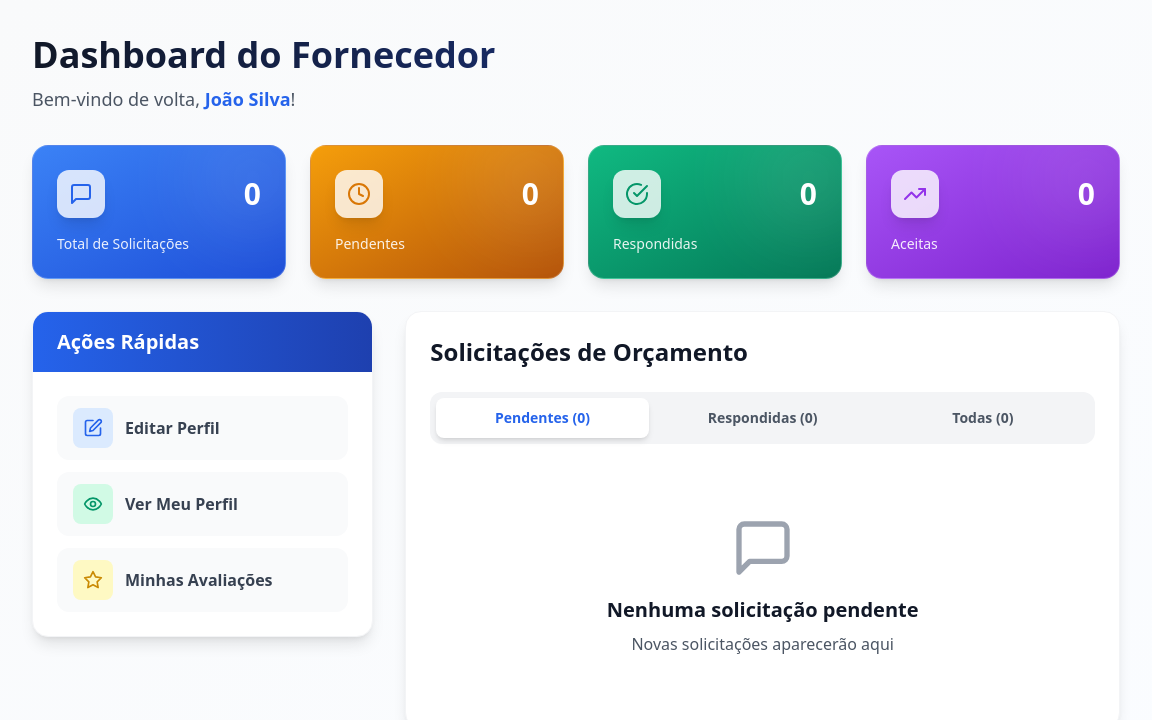
SupplierDashboard › Empty States › should show correct empty state message for each tab
This screenshot has width=1152, height=720.
Expected: the heading "Nenhuma solicitação pendente" is shown, [607, 596, 919, 623]
Click the button "Respondidas (0)" at (763, 418), box [656, 398, 869, 438]
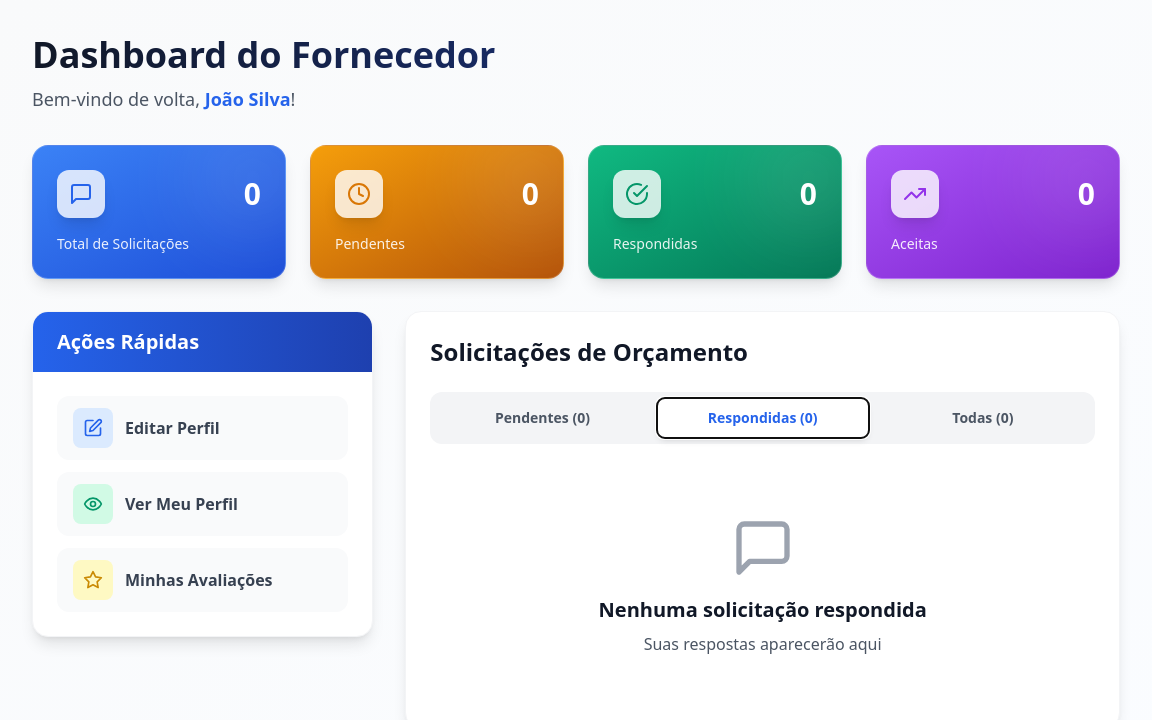
Expected: the heading "Nenhuma solicitação respondida" is shown, [599, 596, 927, 623]
Expected: the text "Suas respostas aparecerão aqui" is shown, [644, 633, 882, 655]
Click the button "Todas (0)" at (983, 418), box [877, 398, 1089, 438]
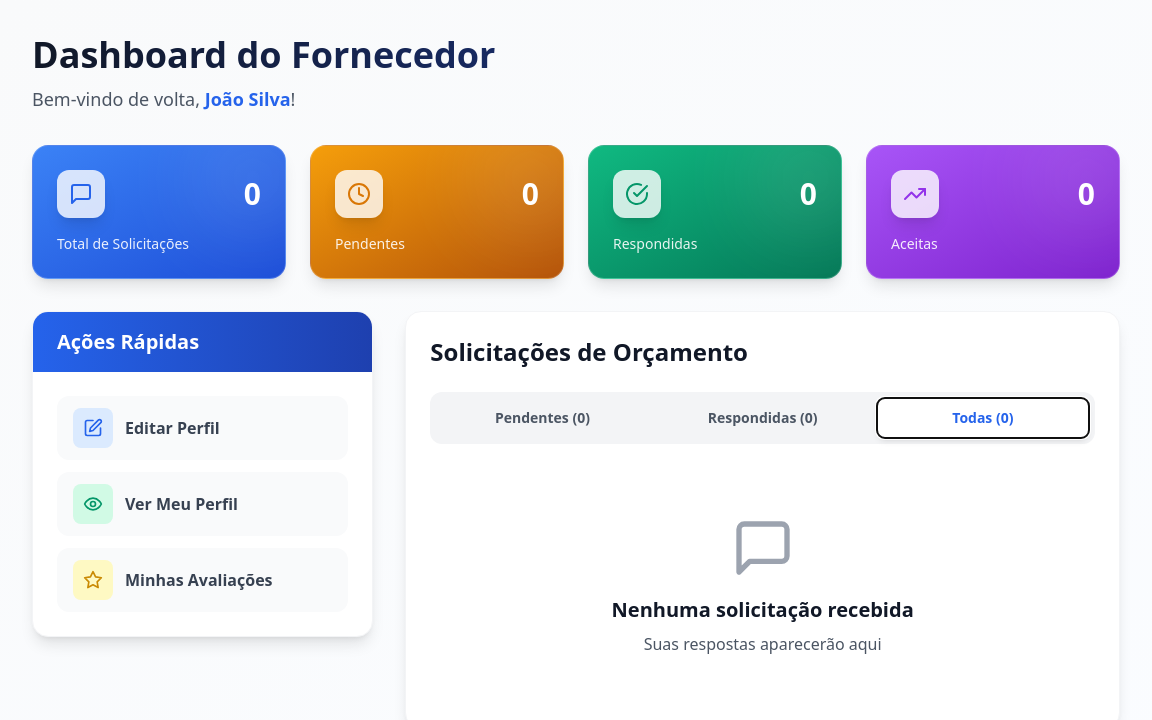
Expected: the text "Suas respostas aparecerão aqui" is shown, [644, 633, 882, 655]
Expected: the heading "Nenhuma solicitação recebida" is shown, [612, 596, 914, 623]
